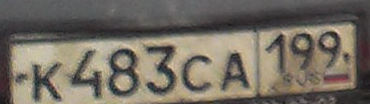character: (71, 47, 104, 104), (109, 44, 142, 99), (144, 41, 175, 94), (32, 56, 64, 104), (181, 53, 215, 95), (221, 51, 253, 94), (290, 28, 316, 73), (264, 30, 288, 76), (318, 26, 342, 71)
